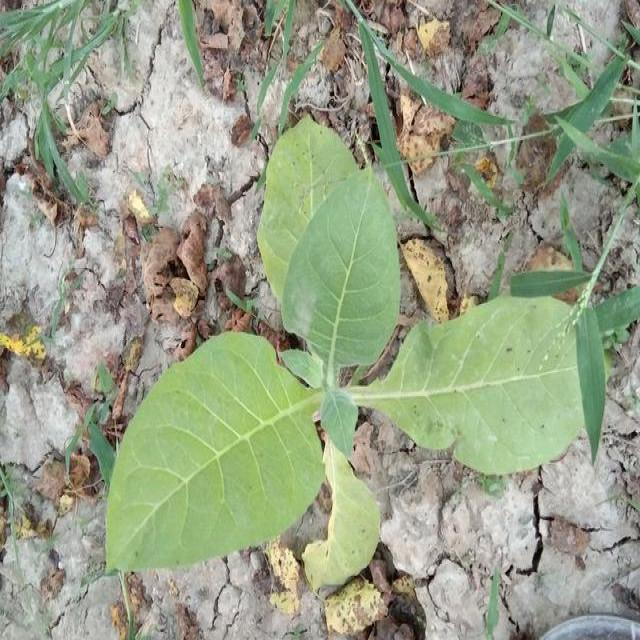crop: (111, 134, 607, 596)
